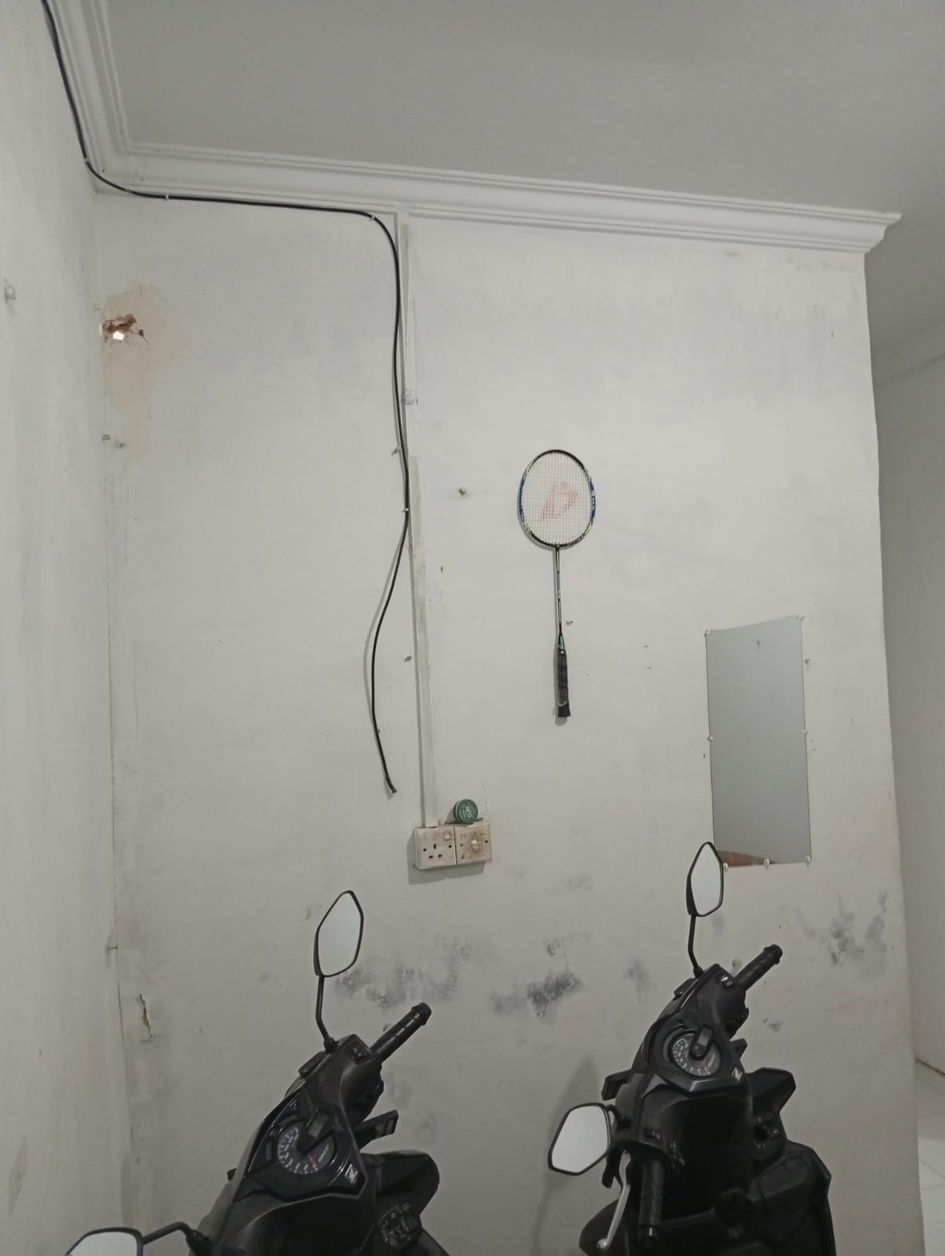Minyak_Rambut: (443, 792, 487, 830)
